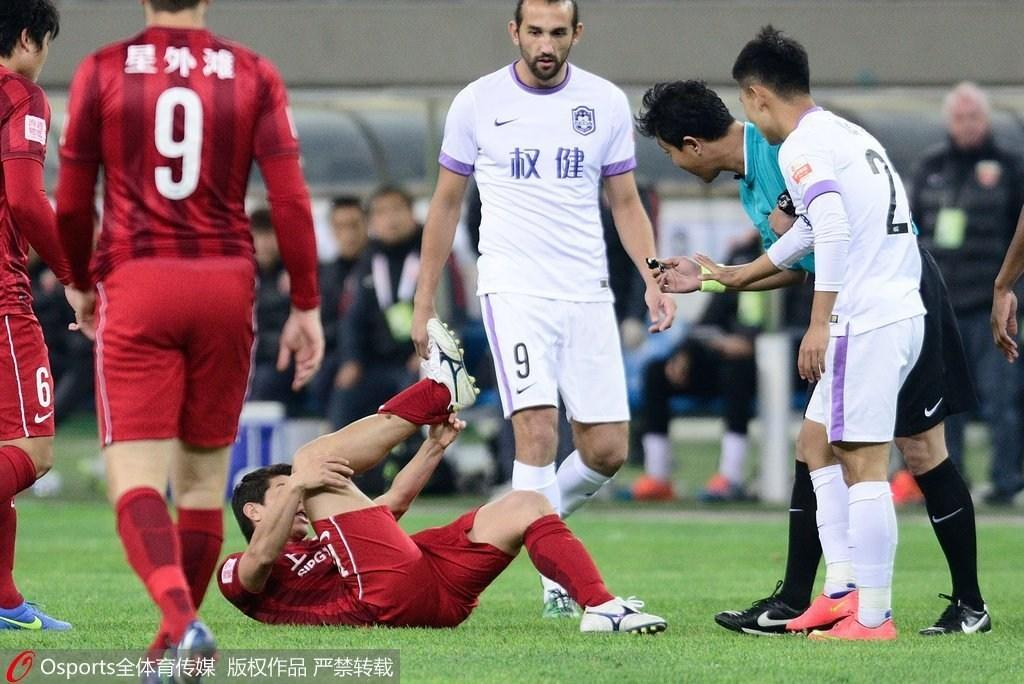down: (210, 308, 674, 643)
up: (64, 1, 327, 672), (436, 3, 676, 598), (710, 25, 935, 635), (1, 1, 94, 648)
